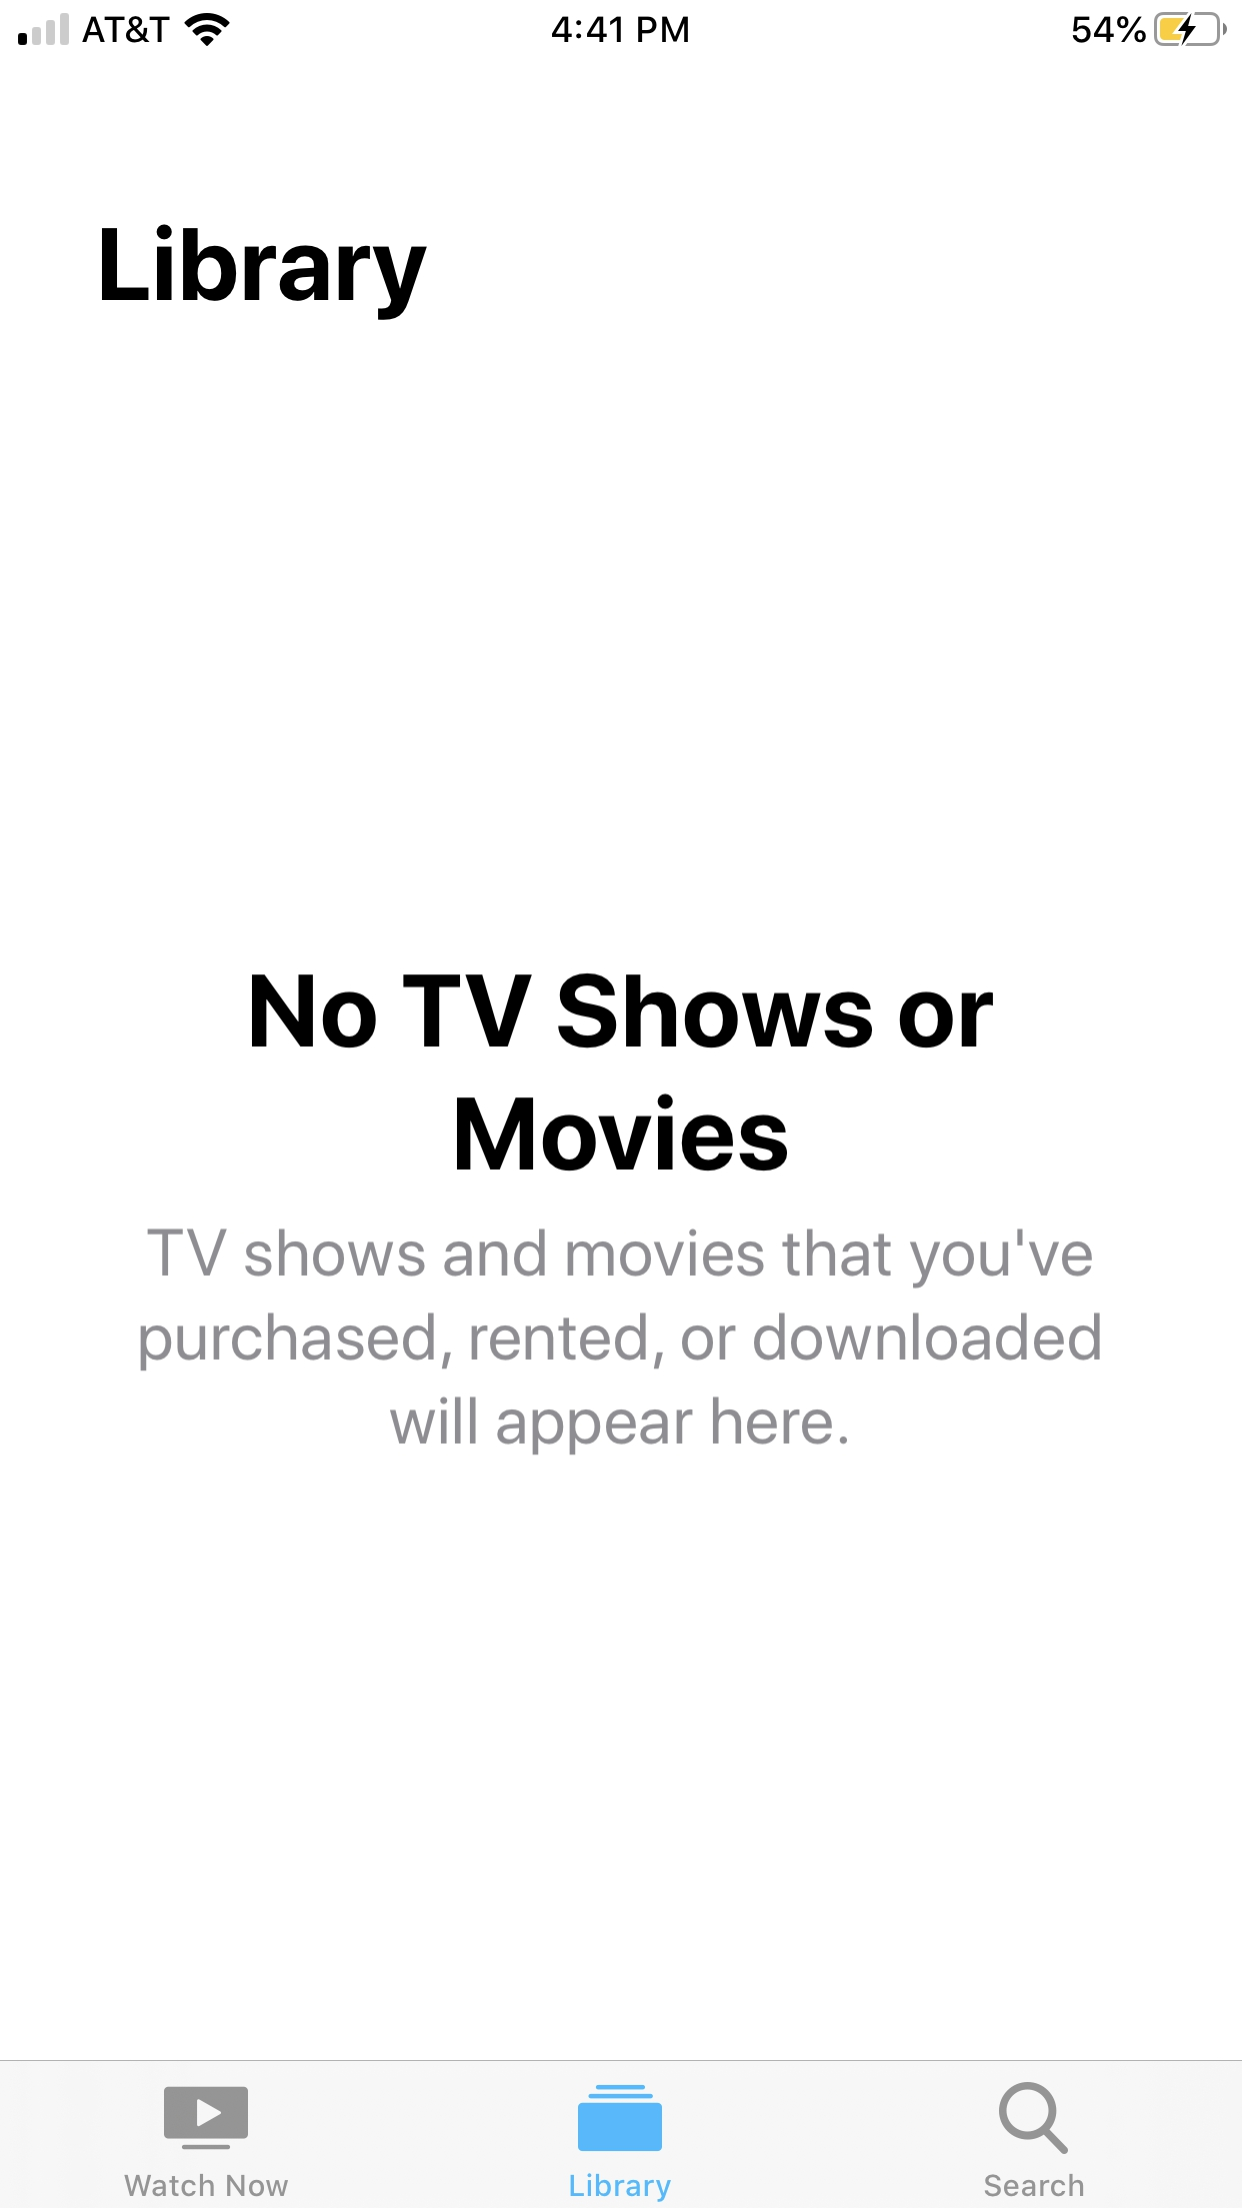Icon: (578, 2085, 663, 2150), (164, 2087, 249, 2150), (998, 2082, 1068, 2153)
Text: (140, 1228, 1099, 1456), (252, 972, 993, 1171), (102, 224, 428, 321), (124, 2172, 288, 2196), (570, 2173, 670, 2200), (984, 2175, 1084, 2196)
UpperTaskBar: (2, 2, 1242, 47)
